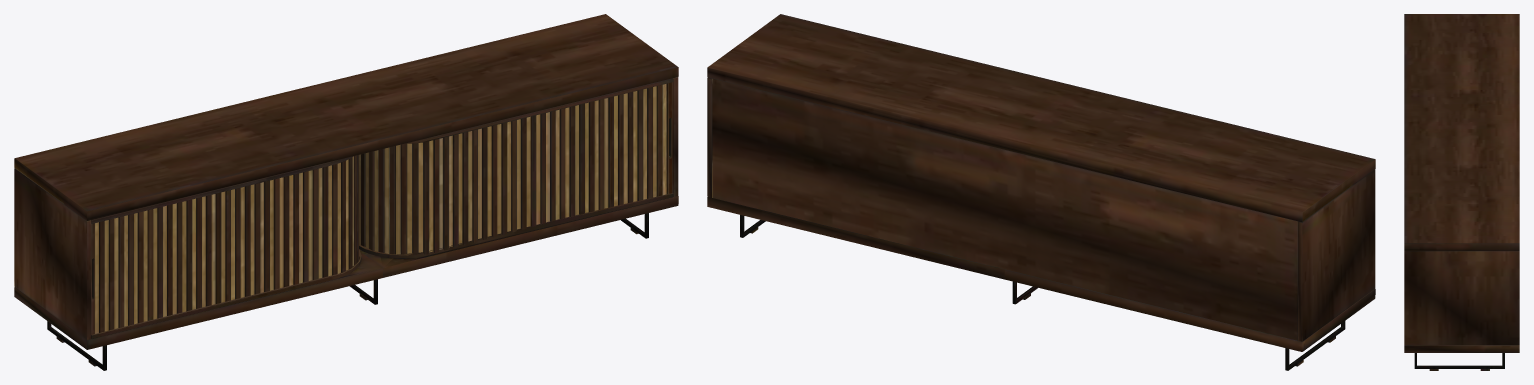
Rendered from tv-stand.glb.
3 views of the same model, side by side, from view 1: azimuth 30°, elevation 25°; view 2: azimuth 150°, elevation 25°; view 3: azimuth 270°, elevation 25° (orthographic). The views are drawn at different scales.
Visible parts, largest first — view 1: modern_wooden_cabinet_body, modern_wooden_cabinet_door_r, modern_wooden_cabinet_door_l; view 2: modern_wooden_cabinet_body; view 3: modern_wooden_cabinet_body.
Boxes of the visible parts, bbox=[...] form: modern_wooden_cabinet_body: bbox=[14, 14, 678, 370]; modern_wooden_cabinet_door_r: bbox=[359, 82, 672, 254]; modern_wooden_cabinet_door_l: bbox=[91, 155, 358, 334]; modern_wooden_cabinet_body: bbox=[707, 14, 1375, 370]; modern_wooden_cabinet_body: bbox=[1404, 14, 1519, 370].
Size of the model in its own units: 1.92 by 0.5352 by 0.4092.
1 material, 1 textured.
